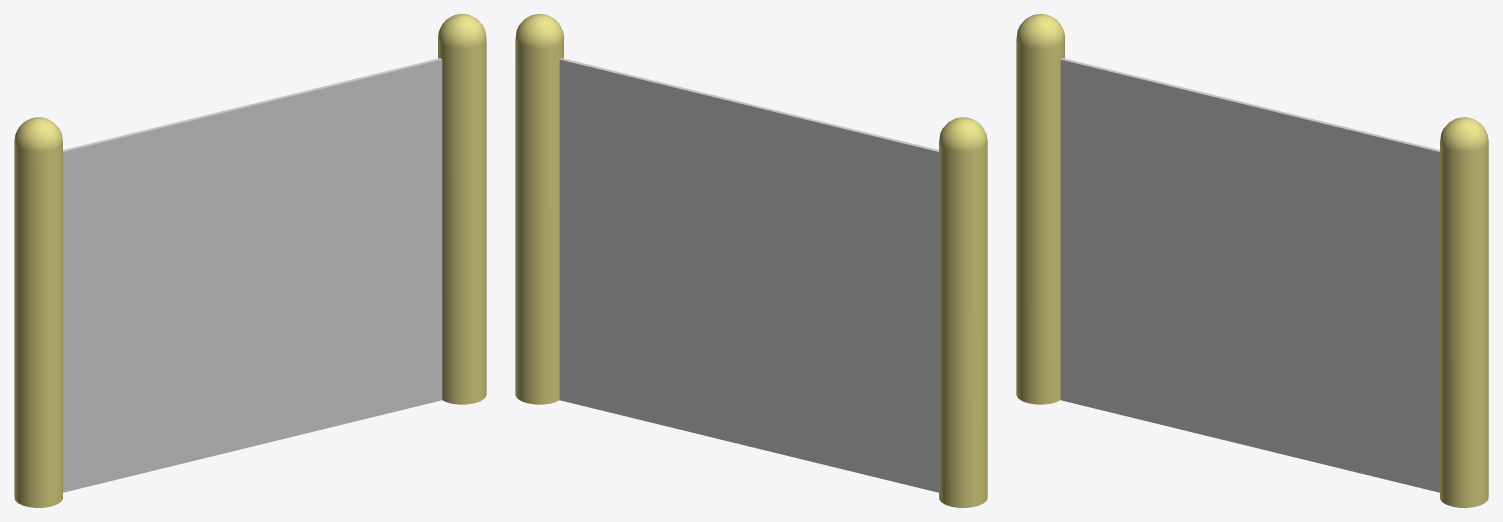
The model's file is Door (3).fbx.
3 renders of one model, left to right at view 1: azimuth 30°, elevation 25°; view 2: azimuth 150°, elevation 25°; view 3: azimuth 330°, elevation 25°, orthographic.
Visible parts, largest first — view 1: Door; view 2: Door; view 3: Door.
Boxes of the visible parts, box(x1,y1,x2,y2) form: Door: box(14, 14, 486, 507); Door: box(515, 14, 987, 507); Door: box(1016, 14, 1488, 507).
Size of the model in its own units: 8.27 by 6.41 by 0.7515.
